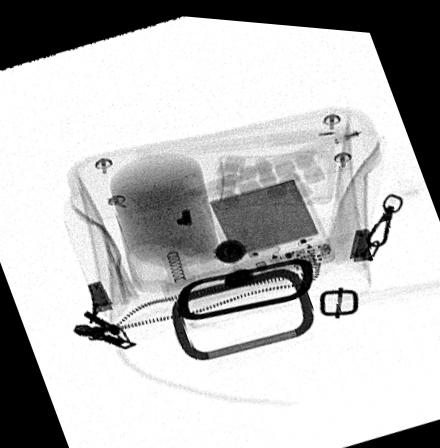Powerbank: (200, 163, 335, 281)
